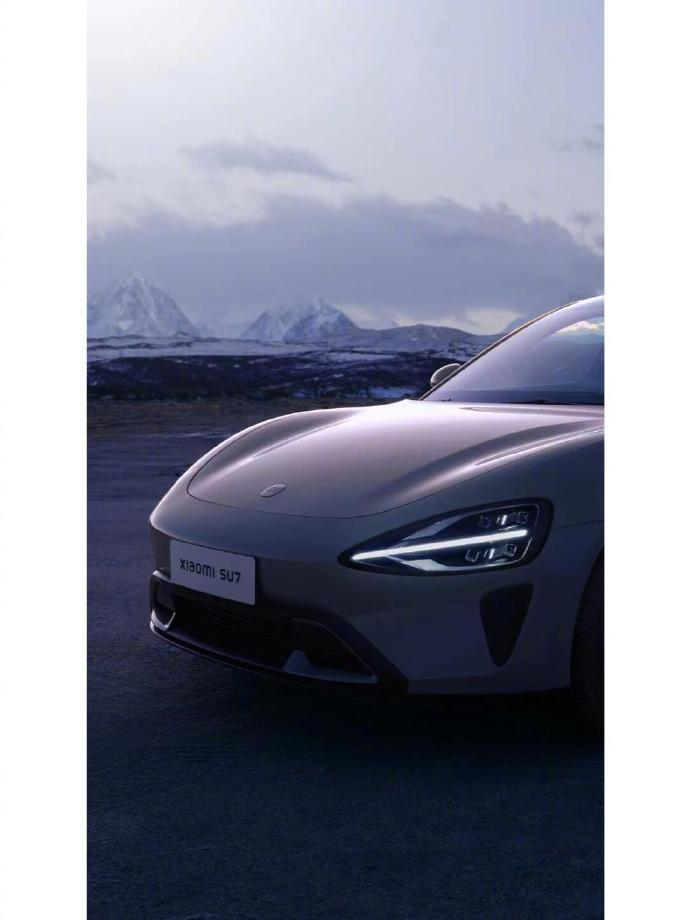su7: (150, 280, 605, 710)
